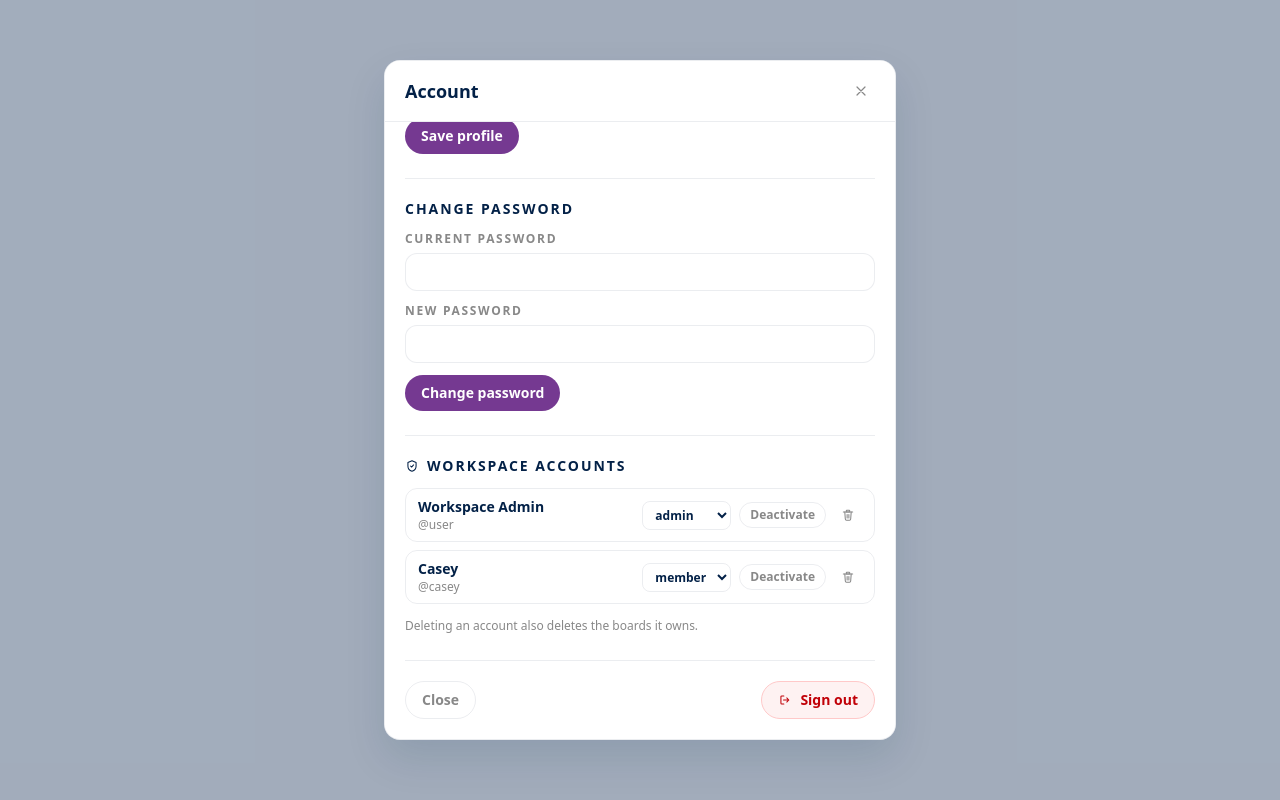
it: AccountDialog › deletes an account
This screenshot has width=1280, height=800.
(page scrolled)
Click the button named "delete casey" at (848, 577), box top-left (834, 563), bottom-right (862, 591)
(page scrolled)
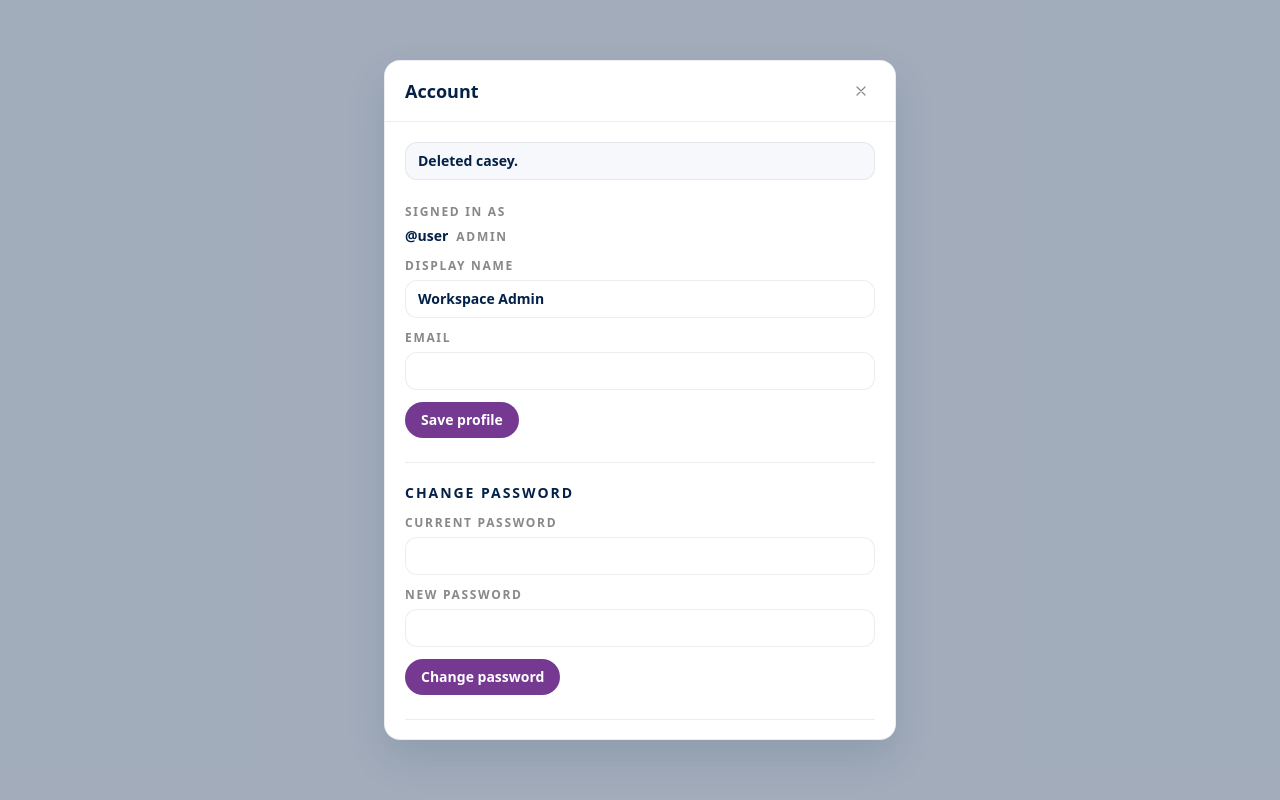
Check: the text "Deleted casey." is shown, box top-left (405, 142), bottom-right (875, 180)
